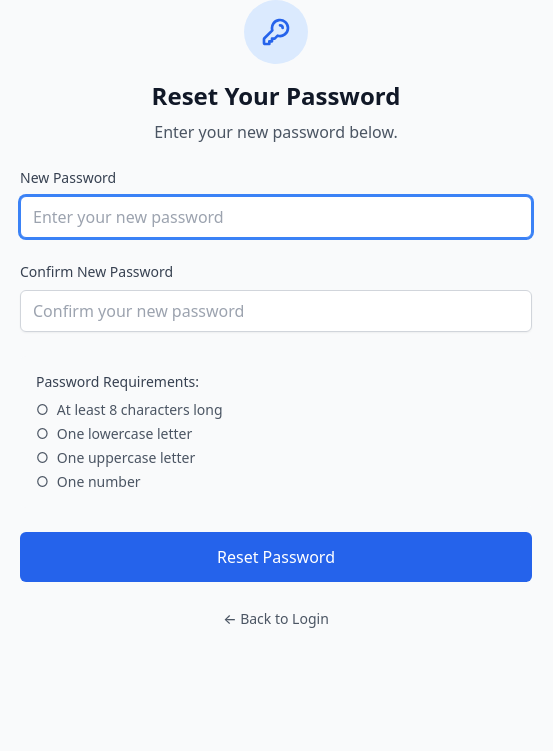
Test: ResetPassword Component › Form Validation › shows error for password without uppercase letter
In the password field labelled "New Password": (276,217) [20, 196, 532, 238], type "password123"
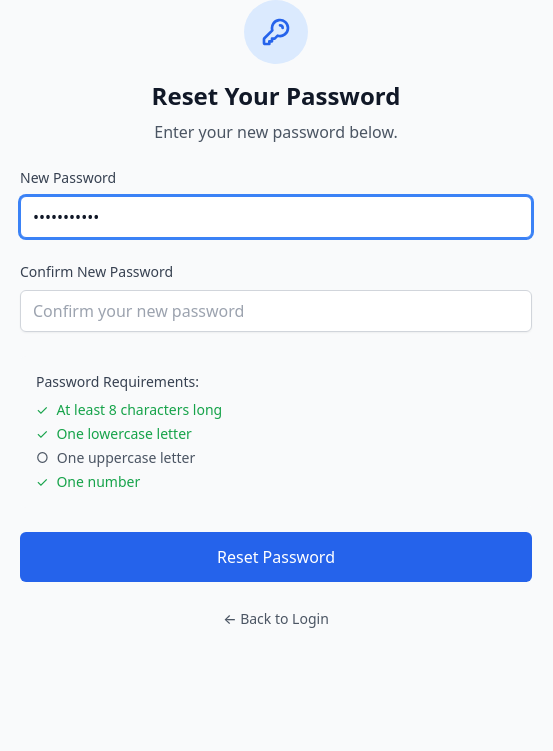
In the password field labelled "Confirm New Password": (276,311) [20, 290, 532, 332], type "password123"
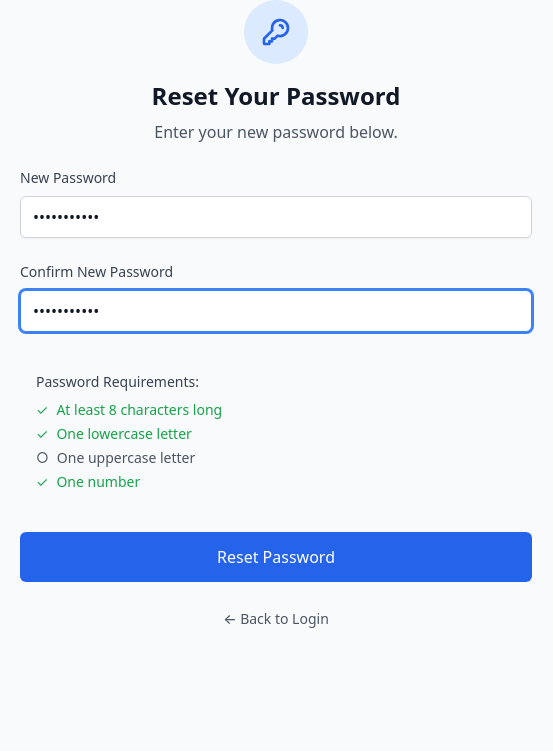
Click the button "Reset Password": (276,557) [20, 532, 532, 582]
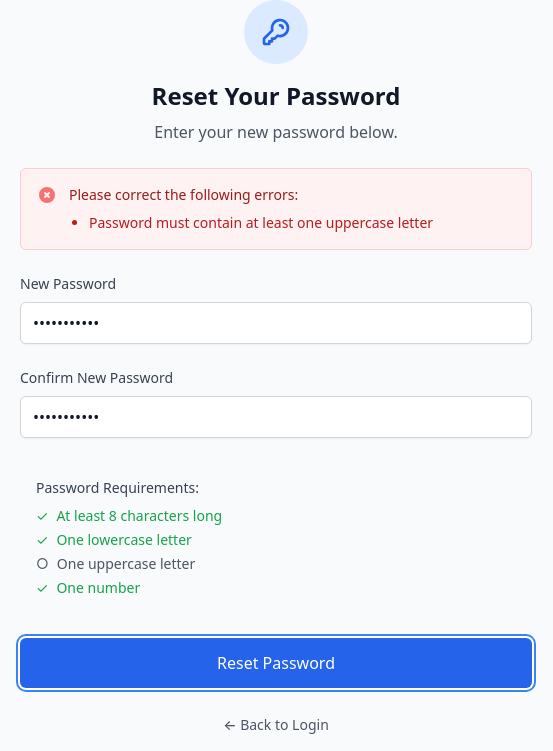
Expected: the list item "Password must contain at least one uppercase letter" is shown, [89, 213, 433, 233]
